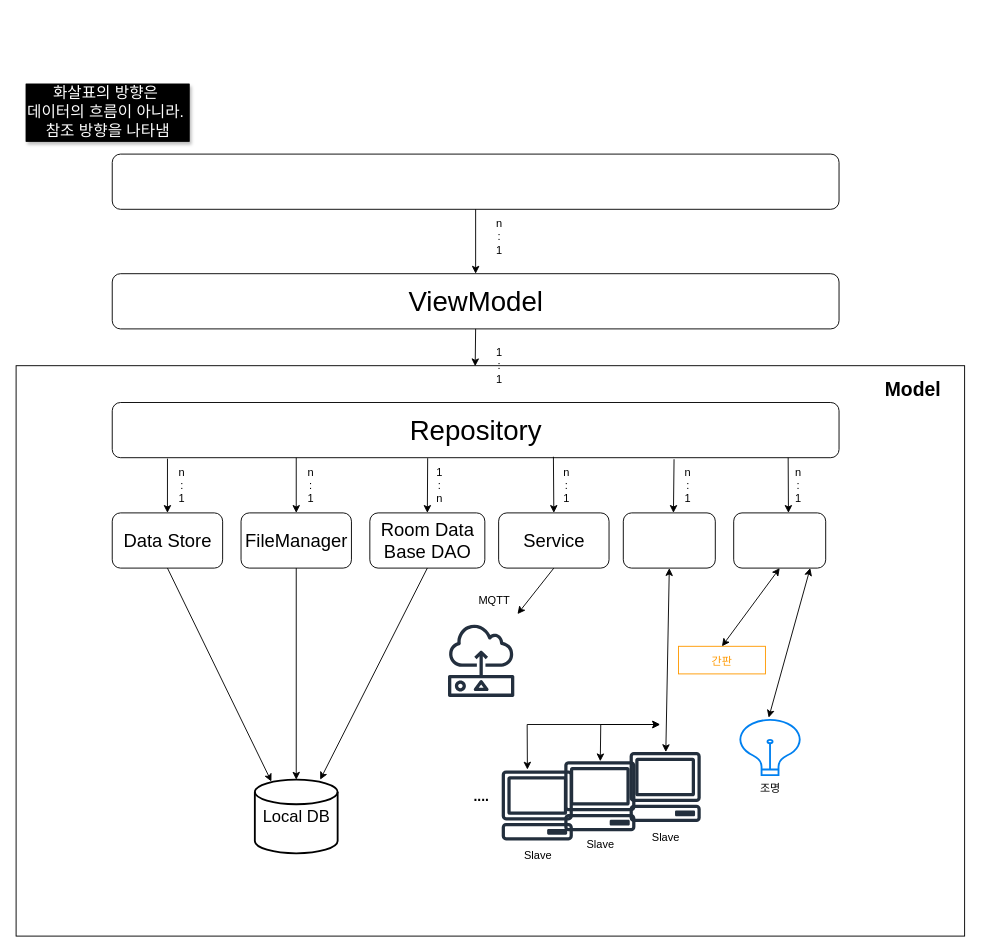
The diagram is 981 pixels wide and 952 high, and some of its shapes have lost their labels. The shapes that lost their labels are listed below. From the top down, each one's box as (x1, y1, x2, y2) in pixels, then its label:
(111, 153, 839, 209): View
(622, 512, 715, 568): RS485 Master
(733, 512, 826, 568): GPIO
(434, 613, 527, 706): 복합센서
